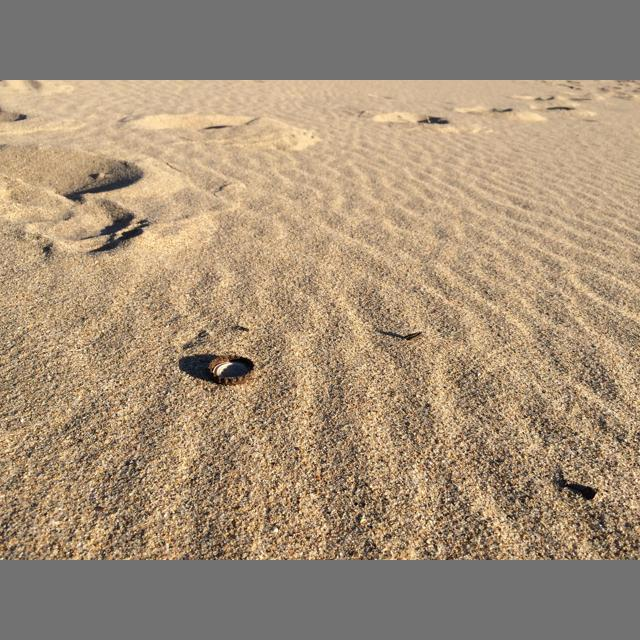litter: (208, 355, 255, 385)
